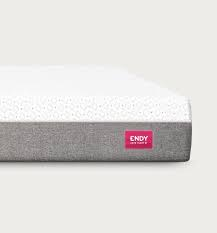bed-matress: (1, 63, 193, 163)
